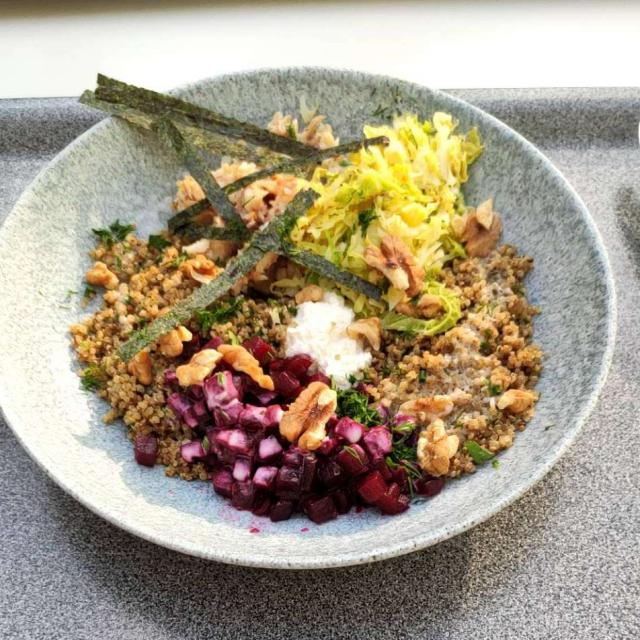beetroot-steamed-without-addition-of-salt: (190, 365, 416, 525)
quinoa: (72, 233, 559, 461)
savoy-cabbage-steamed-without-addition-of-salt: (298, 124, 479, 306)
sour-cream: (283, 294, 375, 387)
walnut: (133, 323, 341, 452)
